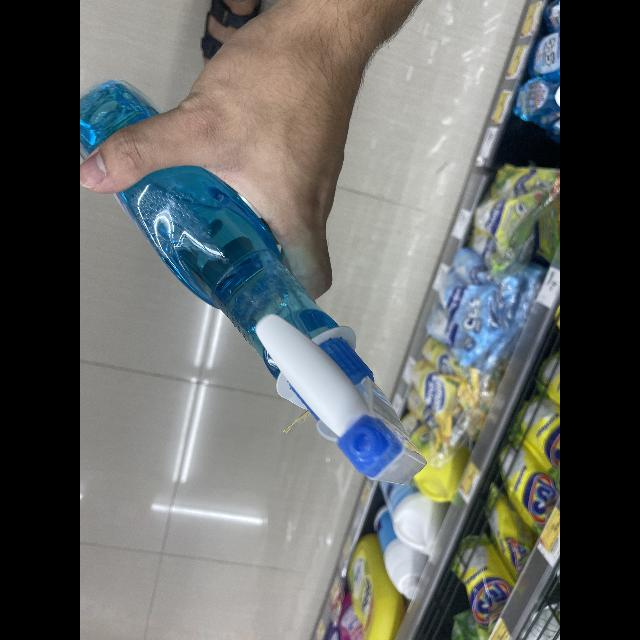chemical_plastic_bottle: (80, 72, 424, 484)
